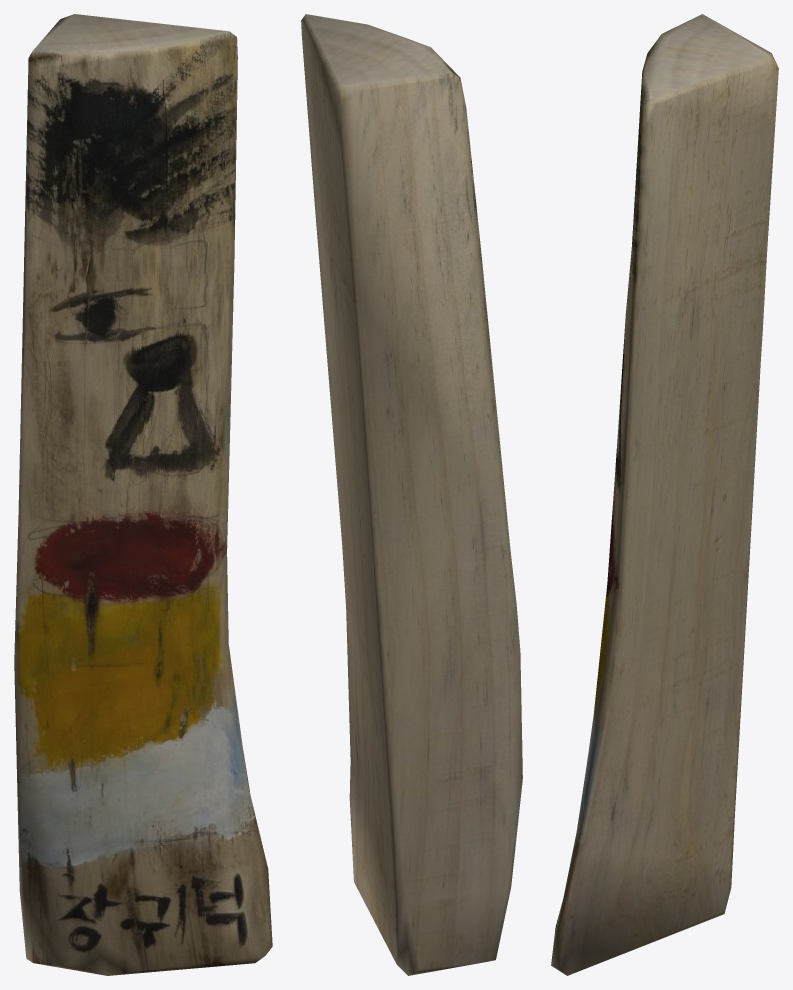
File: 483_GP_JGD124.obj
The picture shows the model from 3 angles, left to right: view 1: azimuth 30°, elevation 25°; view 2: azimuth 150°, elevation 25°; view 3: azimuth 270°, elevation 25°; orthographic projection. The views are drawn at different scales.
Parts seen in each view (by area): view 1: 483_GP_JGD124; view 2: 483_GP_JGD124; view 3: 483_GP_JGD124.
Boxes of the visible parts, x1,y1,x2,y2 form: 483_GP_JGD124: [14, 14, 272, 975]; 483_GP_JGD124: [301, 14, 522, 975]; 483_GP_JGD124: [551, 14, 778, 975].
Bounding box in the file's own units: 42.98 × 167 × 38.98.
Materials: 1 (1 with a texture image).
